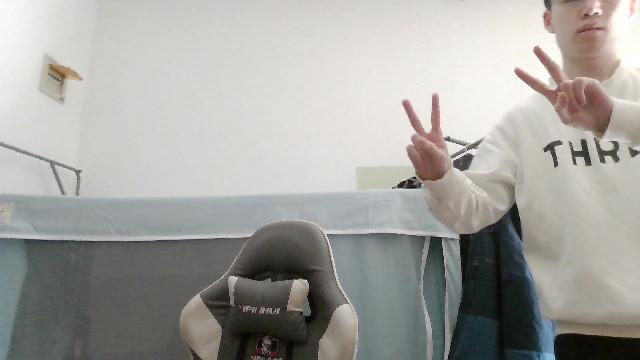yes: (511, 45, 618, 135), (400, 87, 454, 172)
